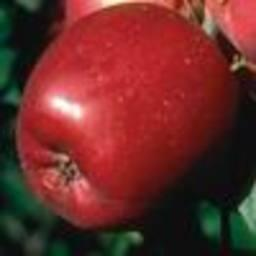apple: (15, 2, 243, 227)
